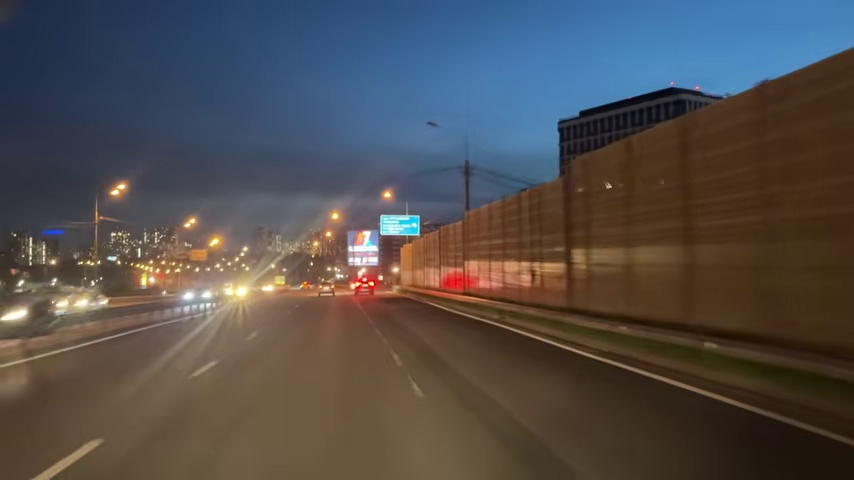acesa: (1, 305, 27, 326), (107, 180, 128, 200), (206, 234, 223, 251), (181, 214, 199, 230), (327, 208, 343, 223), (380, 187, 395, 202)
apagada: (424, 118, 440, 133)
